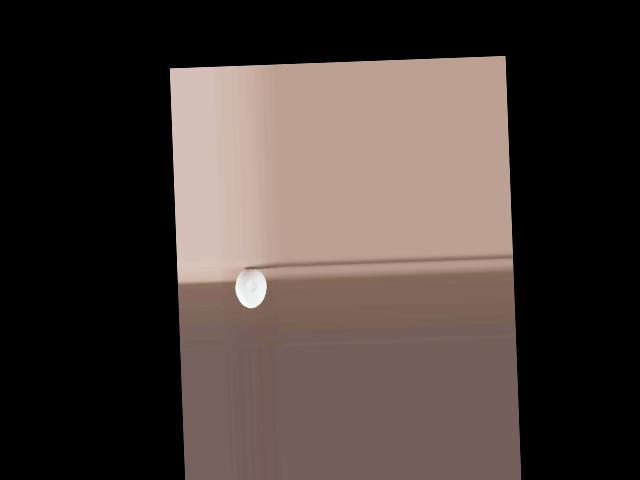egg: (235, 267, 267, 308)
